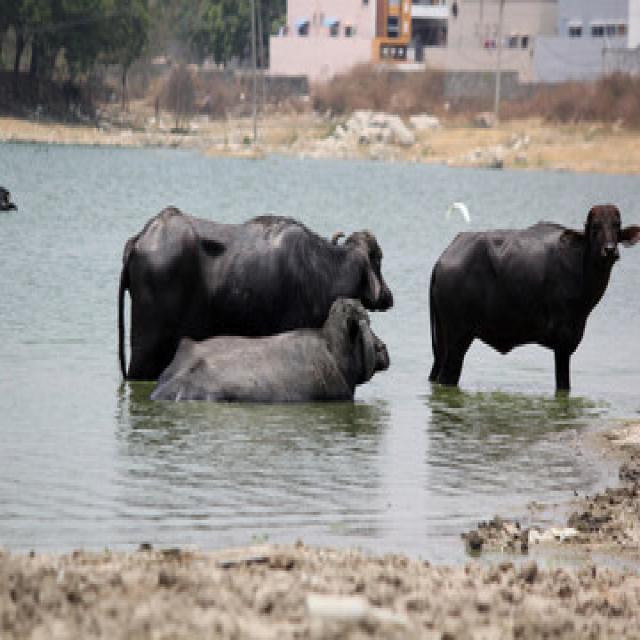Buffalo: (120, 206, 384, 379), (421, 193, 640, 400), (583, 204, 638, 261)
